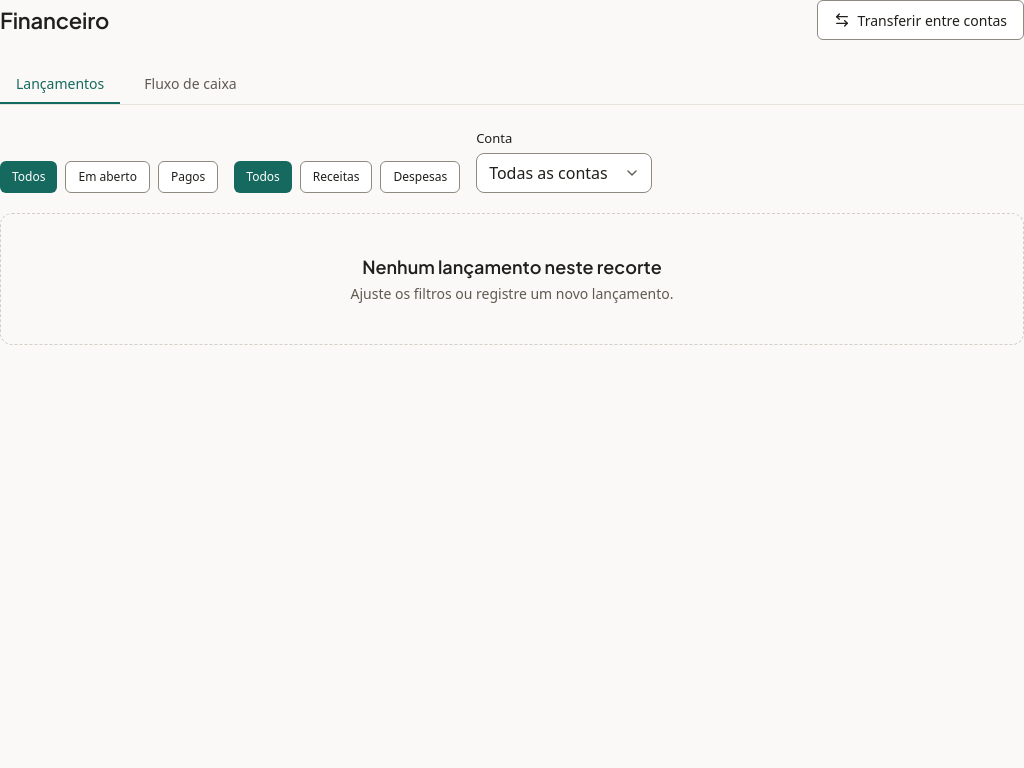
Test: Transferir entre contas — o botão e o diálogo › deve pedir De, Para, Valor, Data e Observação, e explicar o que é transferência
The image size is (1024, 768).
Click the button "Transferir entre contas". click: click(920, 20)
box: [817,0,1023,40]
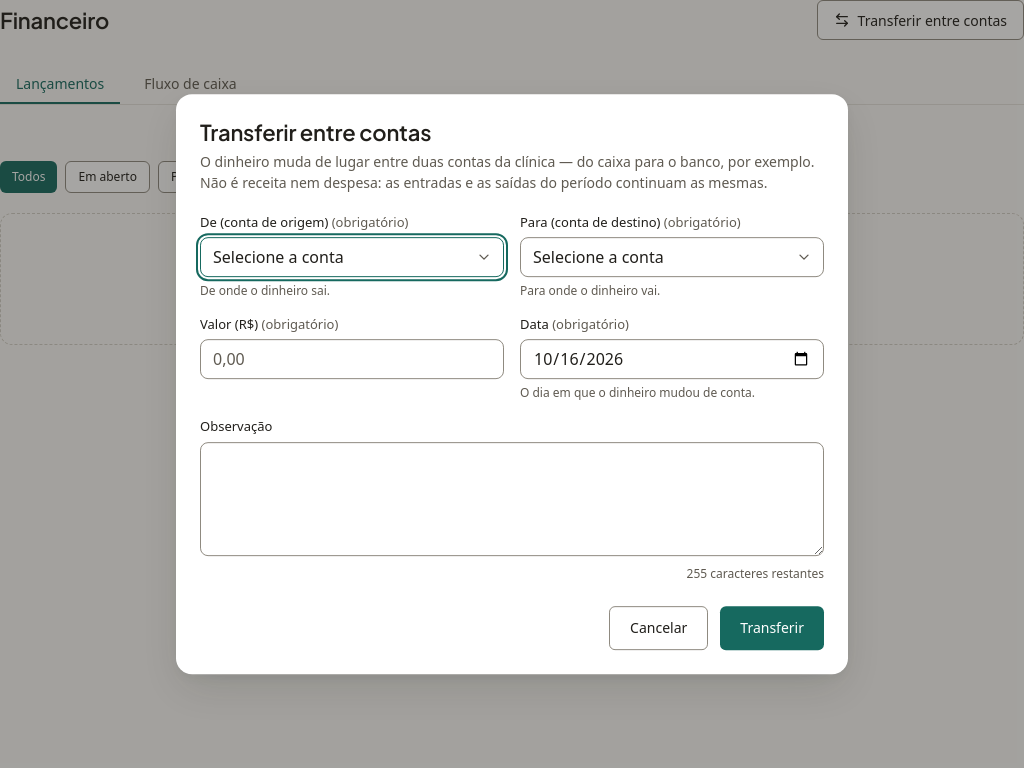
Expected: the dropdown labelled "De (conta de origem) (obrigatório)" is shown, [200,237,504,277]
Expected: the dropdown labelled "Para (conta de destino) (obrigatório)" is shown, [520,237,824,277]
Expected: the field labelled "Valor (R$) (obrigatório)" is shown, [200,339,504,379]
